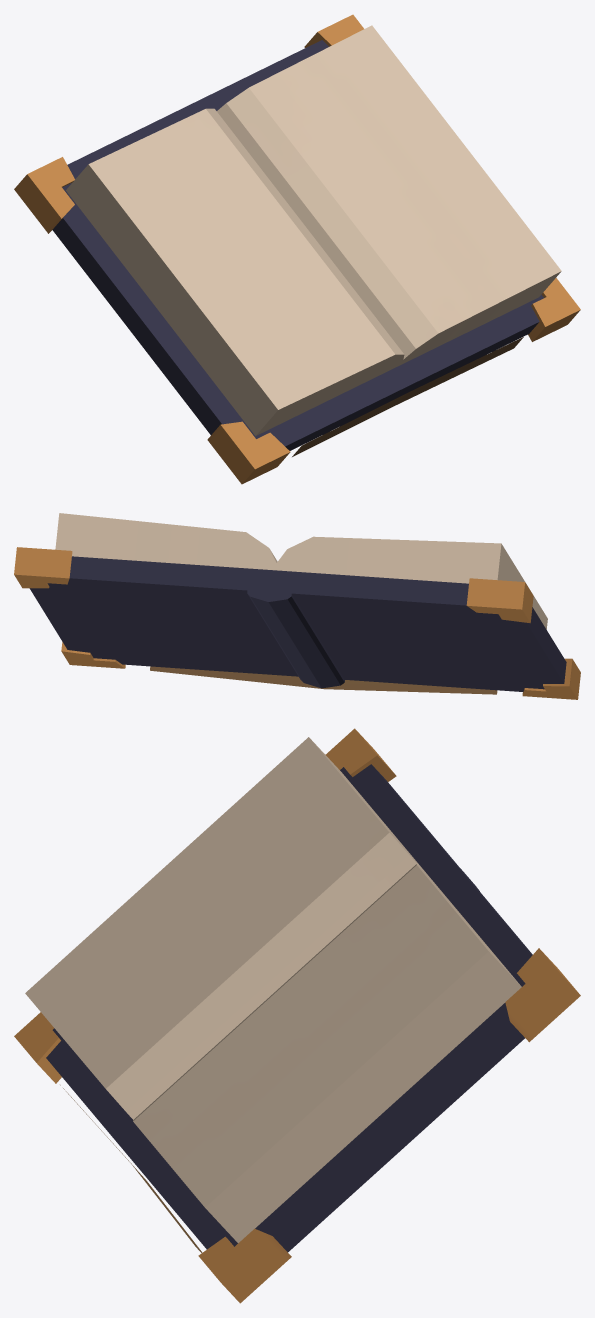
File: OpenBook.glb
3 renders of one model, top to bottom at view 1: azimuth 30°, elevation 25°; view 2: azimuth 150°, elevation 25°; view 3: azimuth 270°, elevation 25°, orthographic. The views are drawn at different scales.
Parts seen in each view (by area): view 1: OpenBook; view 2: OpenBook; view 3: OpenBook.
Part boxes in pixels (left/top/right/bottom): OpenBook: left=14, top=14, right=580, bottom=484; OpenBook: left=14, top=513, right=580, bottom=699; OpenBook: left=14, top=728, right=580, bottom=1303.
Bounding box in the file's own units: 0.6386 × 0.3037 × 0.5163.
1 material, 1 textured.
